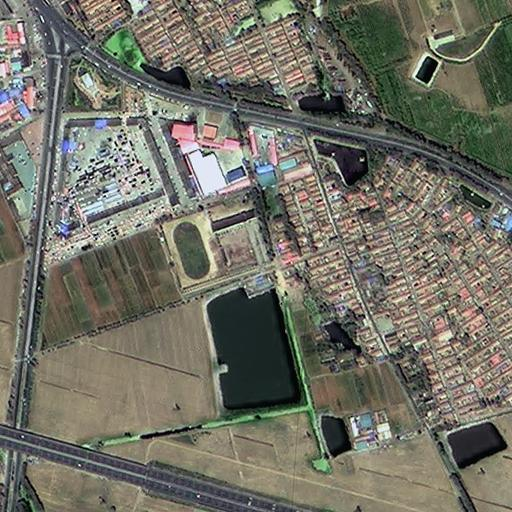school: (159, 196, 272, 293)
